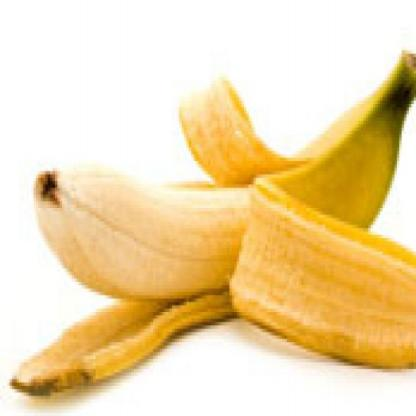banana: (24, 103, 413, 312)
